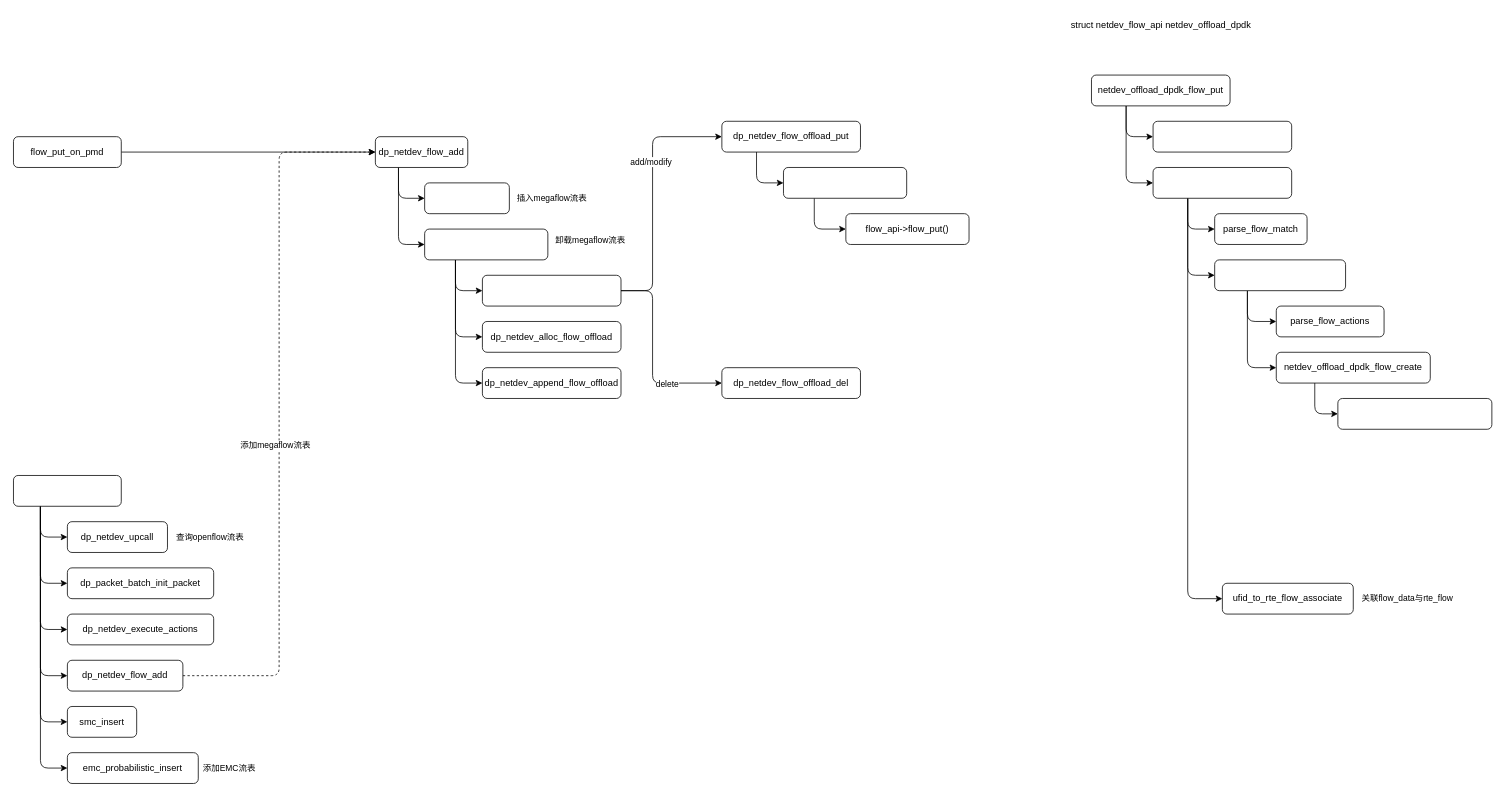
This 1505x797 diagram has some shape labels left out. Each missing label, with the centre of its shape:
"dpcls_insert" goes at point 466,198.
"handle_packet_upcall" goes at point 67,490.
"netdev_dpdk_rte_flow_create" goes at point 1414,413.
"netdev_flow_put" goes at point 845,182.
"netdev_offload_dpdk_actions" goes at point 1280,275.
"netdev_offload_dpdk_add_flow" goes at point 1222,182.
"queue_netdev_flow_put" goes at point 486,244.
"ufid_to_rte_flow_data_find" goes at point 1222,136.
"创建卸载线程，入口dp_netdev_flow_offload_main" goes at point 551,290.
